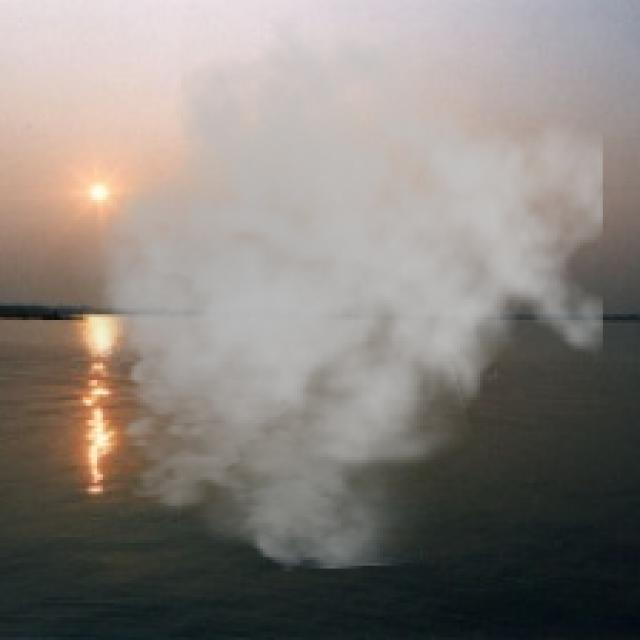Smoke: (48, 14, 603, 572)
